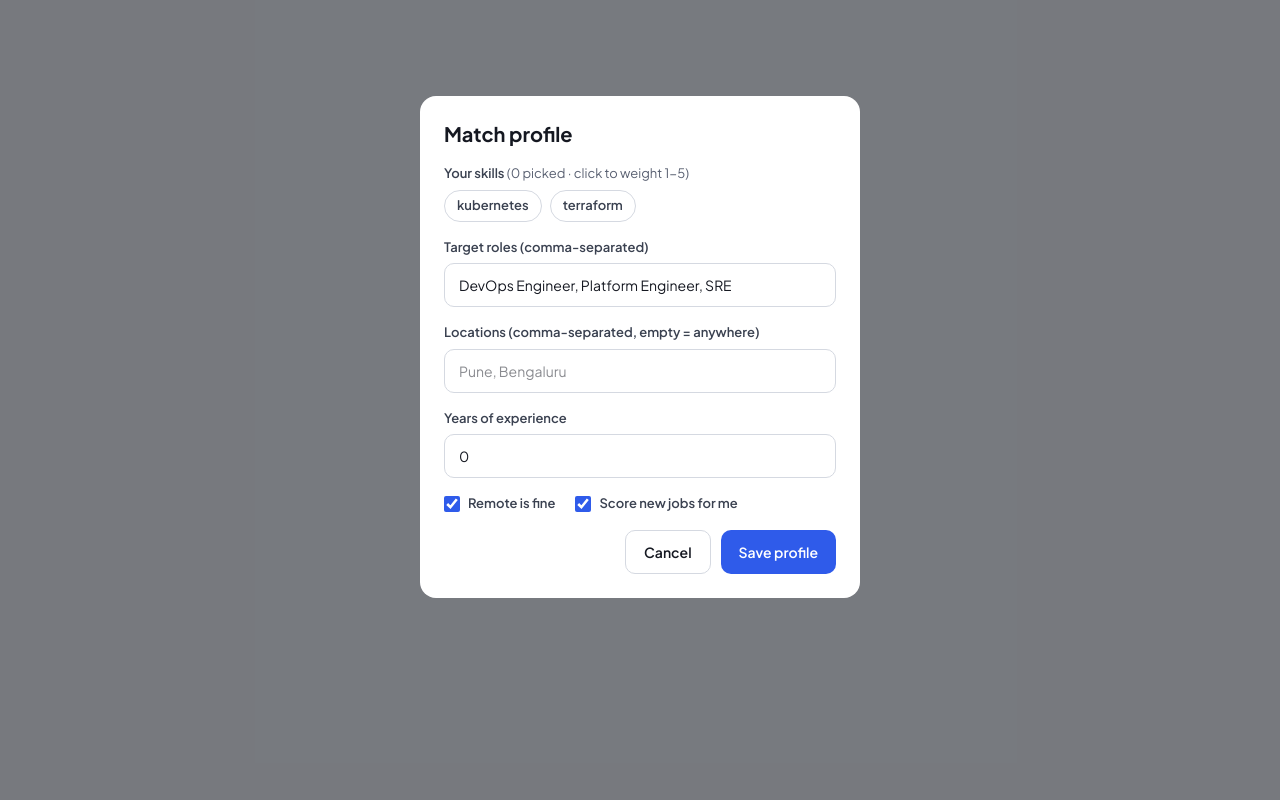
Scenario: MatchProfileModal › needs at least one skill
The width and height of the screenshot is (1280, 800).
Click the button "Save profile" at (778, 552), box [721,530,836,574]
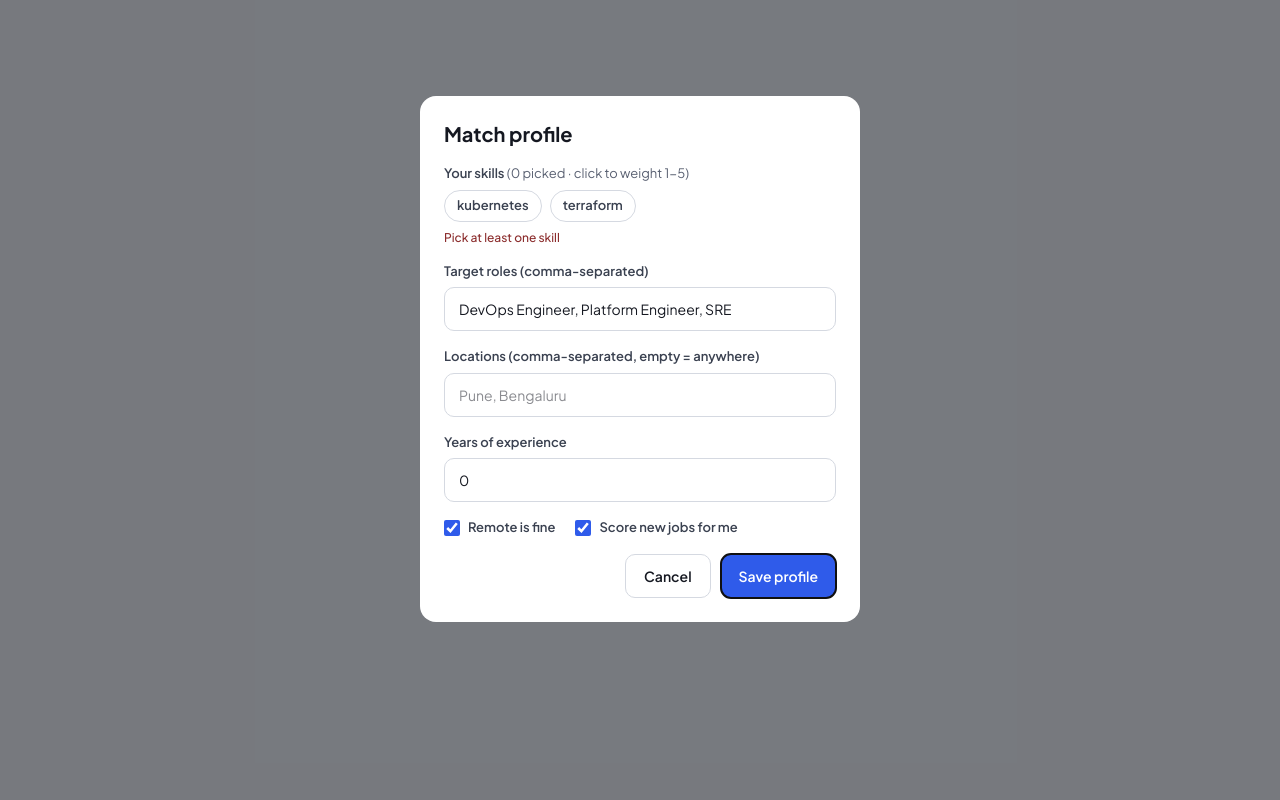
Result: the text "Pick at least one skill" is shown at [444,230,560,244]
